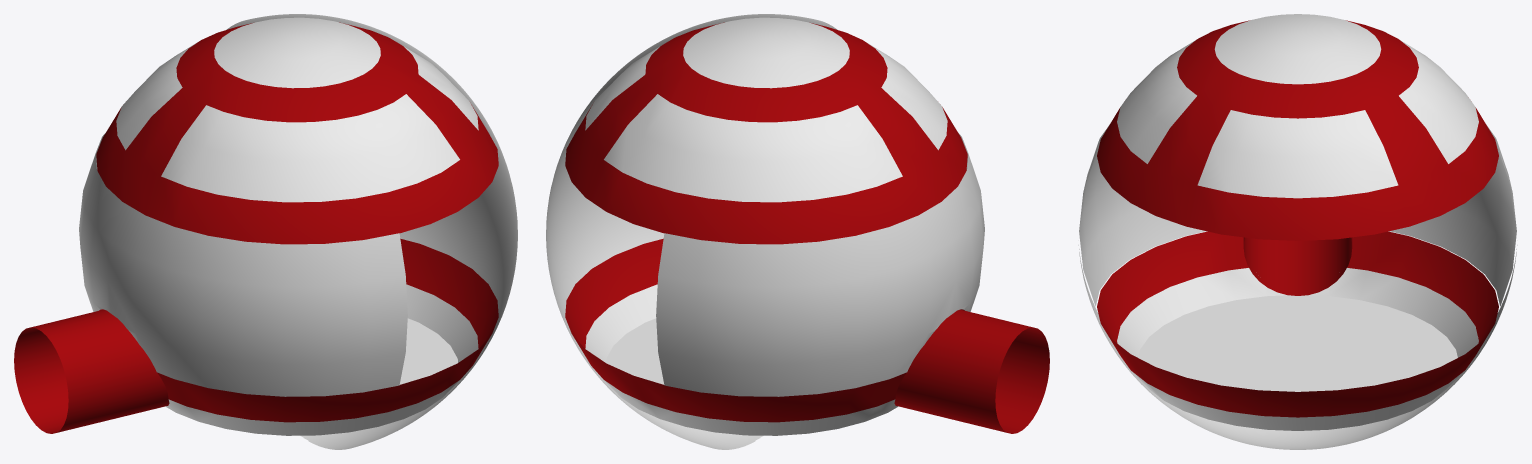
The model's file is domo.glb.
3 renders of one model, left to right at view 1: azimuth 30°, elevation 25°; view 2: azimuth 150°, elevation 25°; view 3: azimuth 270°, elevation 25°, orthographic.
Parts seen in each view (by area): view 1: Domo, ScreenDomo; view 2: Domo, ScreenDomo; view 3: Domo, ScreenDomo.
Part boxes in pixels (x1,y1,x2,y2): Domo: (14,17,498,435); ScreenDomo: (226,14,517,449); Domo: (565,17,1049,435); ScreenDomo: (546,14,837,449); Domo: (1079,14,1516,430); ScreenDomo: (1078,245,1517,449).
Size of the model in its own units: 14.19 by 12.12 by 12.12.
